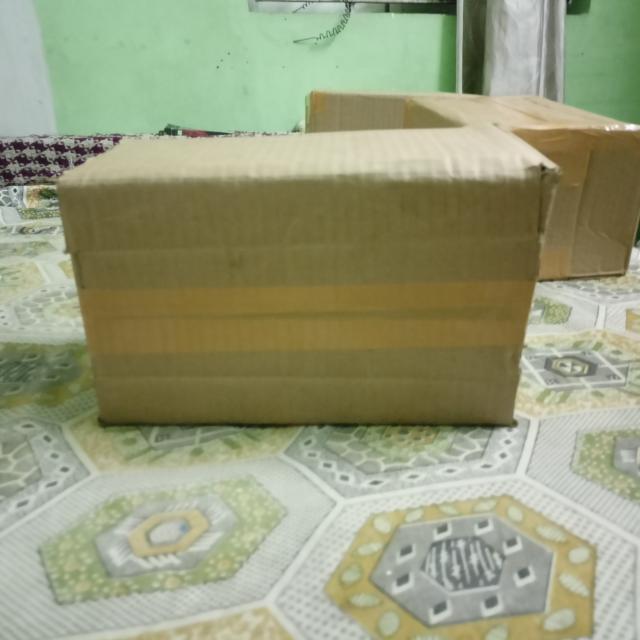box: (57, 175, 553, 425)
